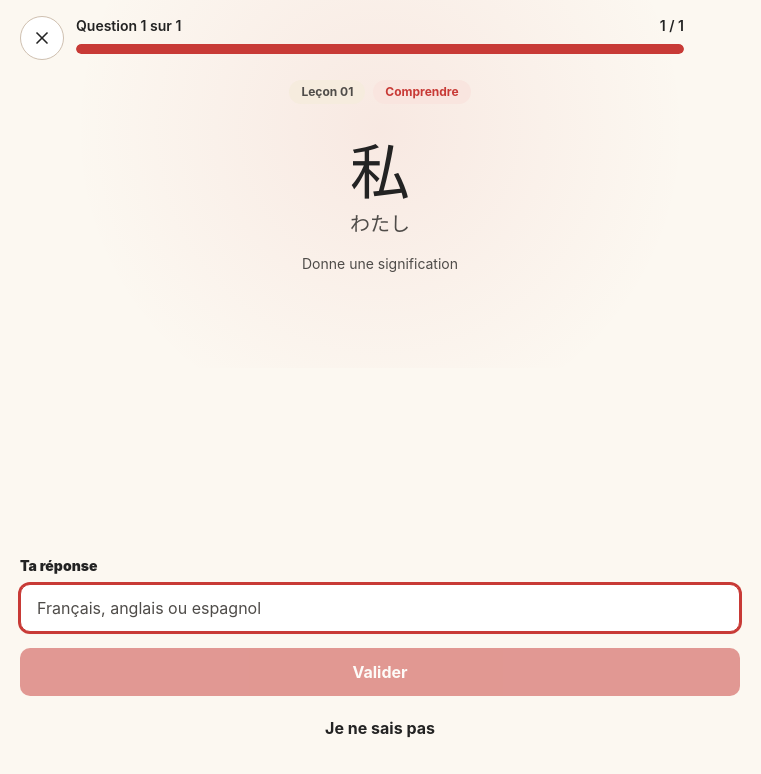
Test: QuizPage › retries the same review without advancing when persistence fails
Type "je" into the field labelled "Ta réponse" at [380, 608], box [20,584,740,632]
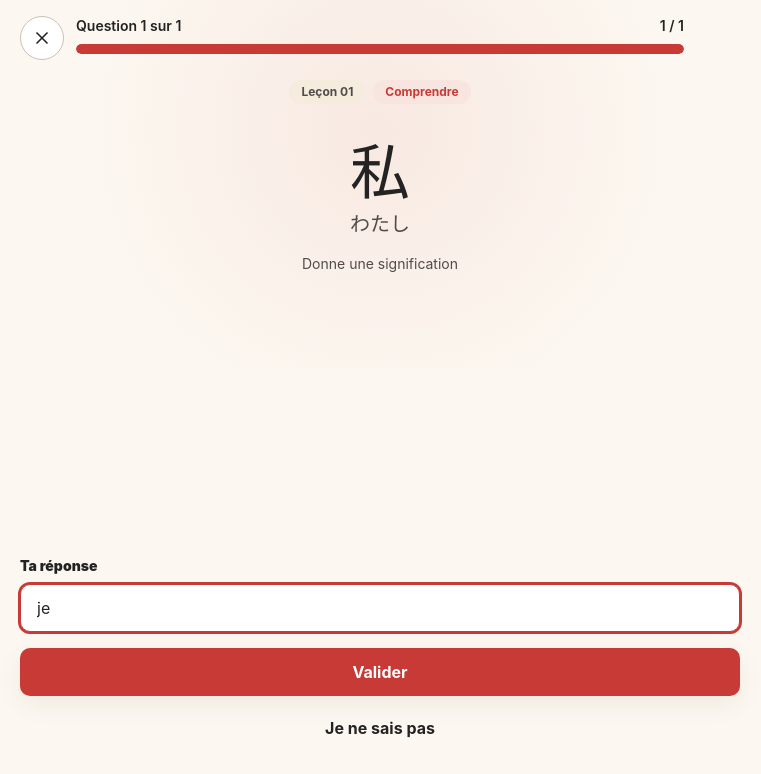
Click the button "Valider" at [380, 672], box [20,648,740,696]
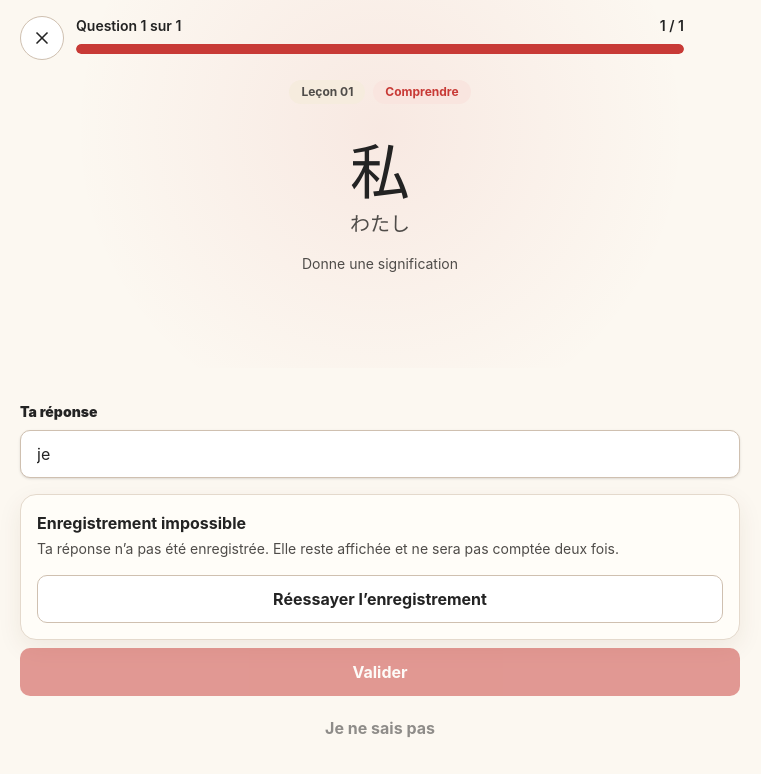
expect the message shows "Enregistrement impossible": met, box [37,513,246,533]
Click the button "Réessayer l’enregistrement" at [380, 599], box [37,575,723,623]
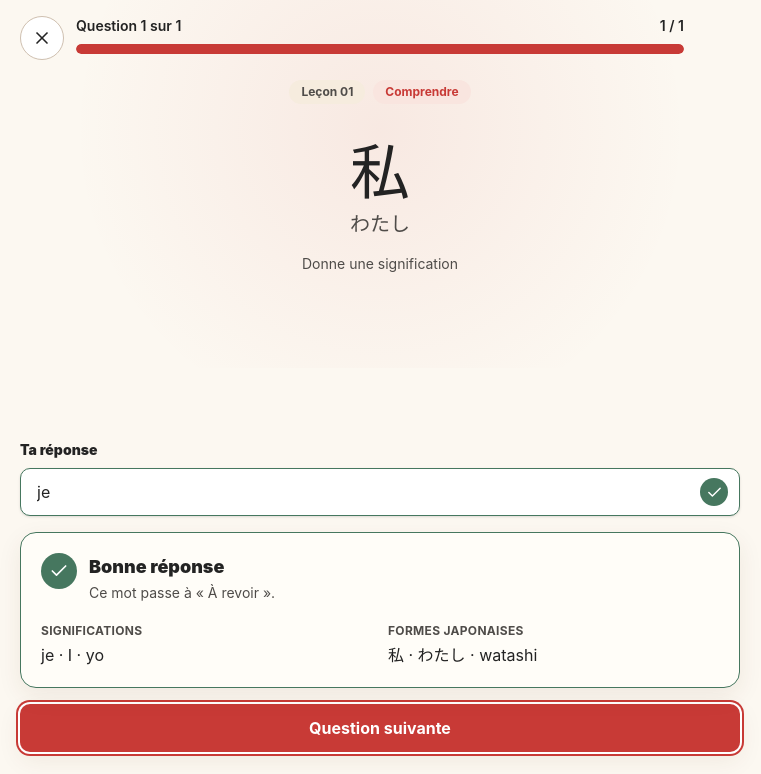
expect the message shows "Bonne réponse": met, box [89,556,224,577]
